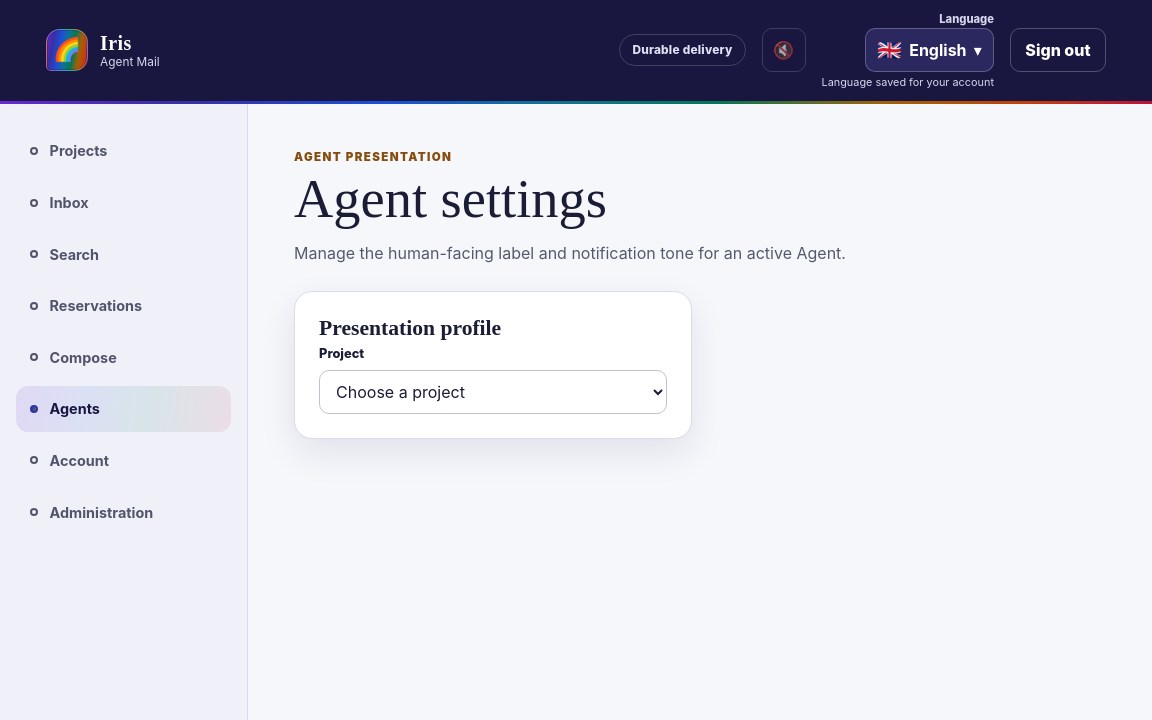
Test: Iris landing shell › ignores an aborted Agent settings directory request
Expected: the text "Language saved for your account" is shown, [822,75,994,89]
Select "/mateusz-klatt/mcp_agent_mail" in the dropdown labelled "Project" at coordinates (493, 392), box [319,370,667,414]
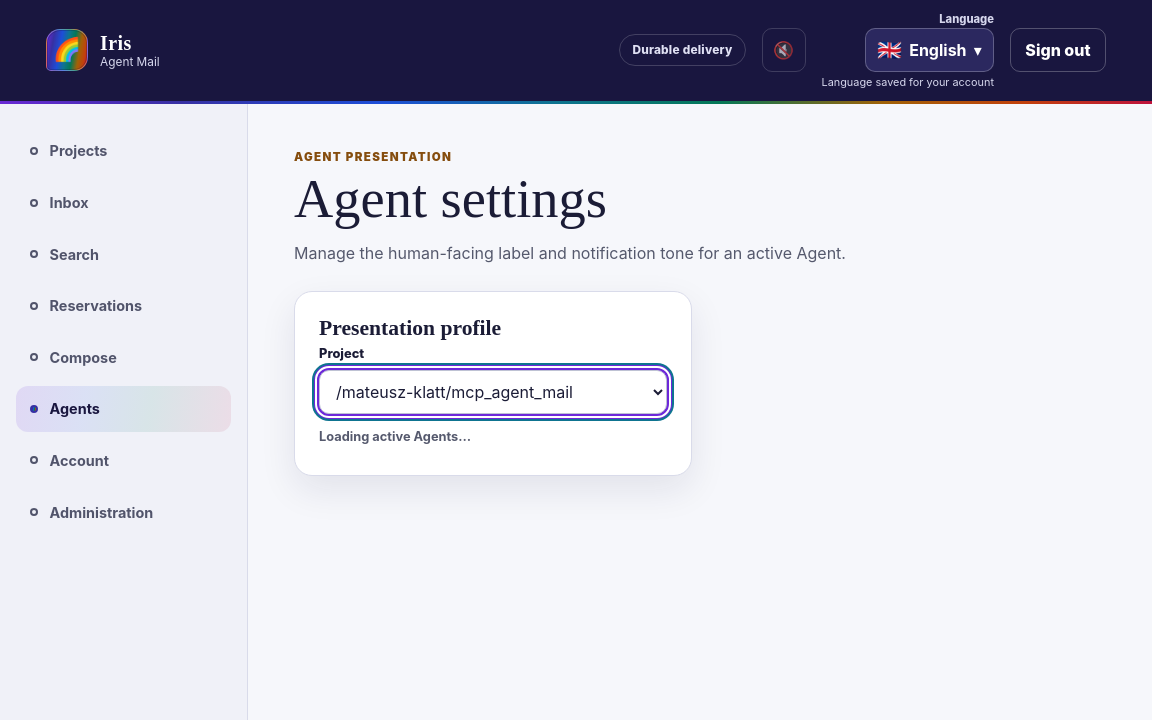
Now the text "Loading active Agents…" is shown, box [319,429,471,444]
